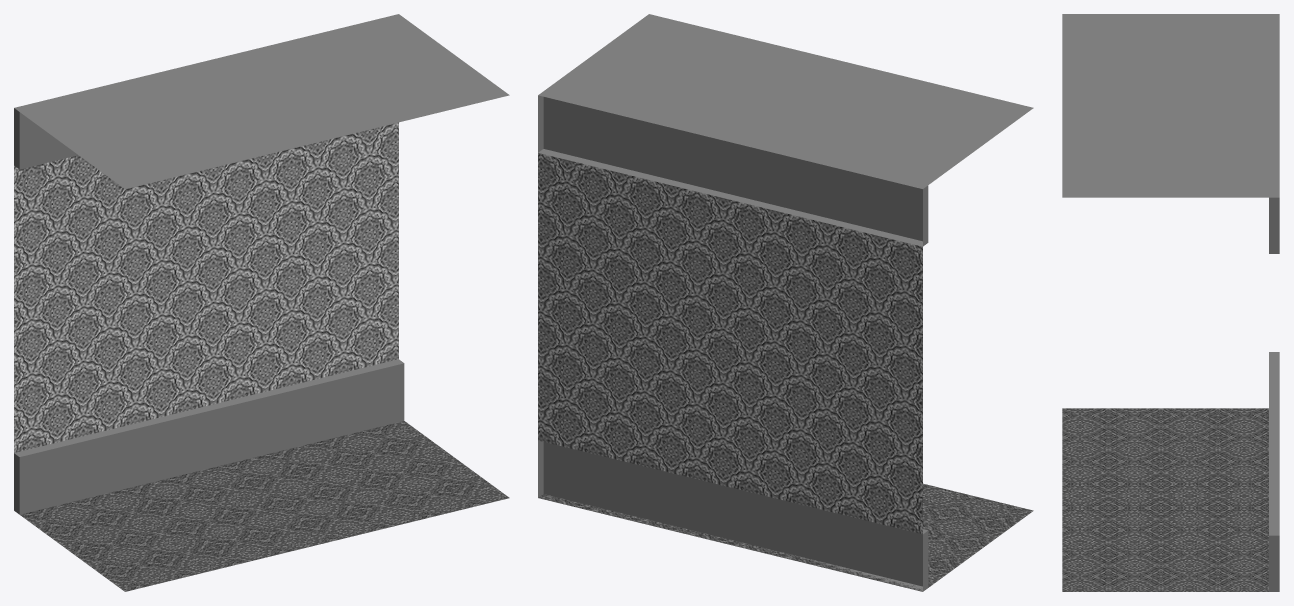
Rendered from Room_Wall_Half.fbx.
3 views of the same model, side by side, from view 1: azimuth 30°, elevation 25°; view 2: azimuth 150°, elevation 25°; view 3: azimuth 270°, elevation 25° (orthographic). The views are drawn at different scales.
Visible parts, largest first — view 1: Room_Wall_Half; view 2: Room_Wall_Half; view 3: Room_Wall_Half.
Boxes of the visible parts, x1,y1,x2,y2 form: Room_Wall_Half: (14, 14, 509, 591); Room_Wall_Half: (538, 14, 1033, 591); Room_Wall_Half: (1062, 14, 1279, 591).
Size of the model in its own units: 6 by 6 by 3.
Materials: 3 (2 with a texture image).
